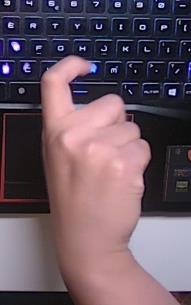anticlockwise: (34, 52, 152, 246)
